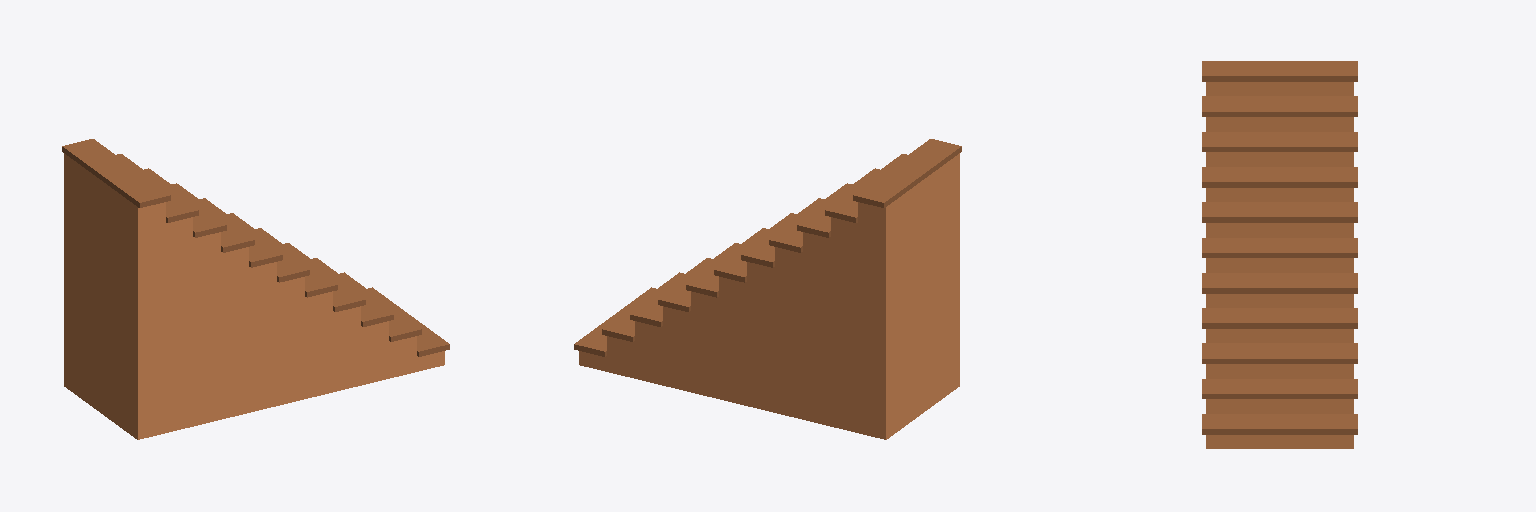
Rendered from stairs.obj.
3 views of the same model, side by side, from view 1: azimuth 30°, elevation 25°; view 2: azimuth 150°, elevation 25°; view 3: azimuth 270°, elevation 25° (orthographic).
Parts seen in each view (by area): view 1: stairs; view 2: stairs; view 3: stairs.
Part boxes in pixels (x1,y1,x2,y2): stairs: (62,139,449,439); stairs: (574,139,961,439); stairs: (1202,61,1357,448).
Size of the model in its own units: 1.82 by 1.34 by 0.79.